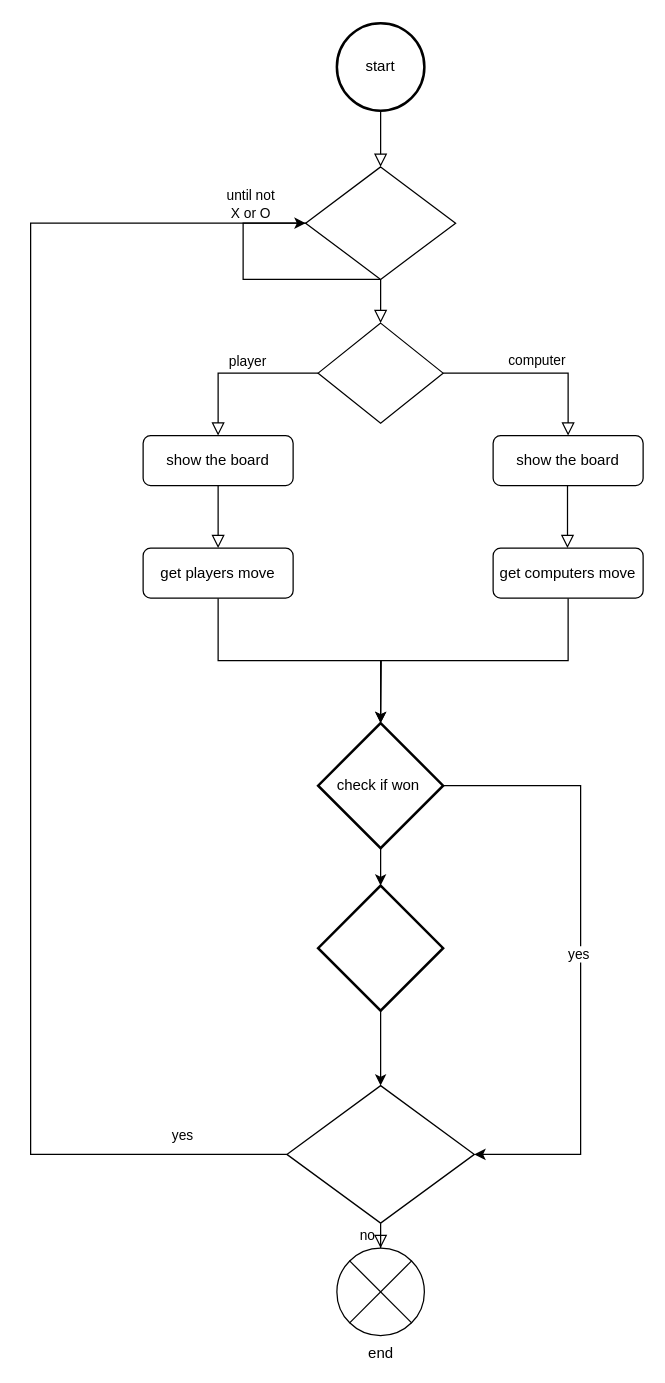
The diagram is 665 pixels wide and 1383 high, and some of its shapes have lost their labels. Each missing label, with the centre of its shape:
Ask for players letter: the point at 380,222
Ask player to play again ?: the point at 380,1153
check if tie: the point at 380,947
Decide who goes first: the point at 380,372
